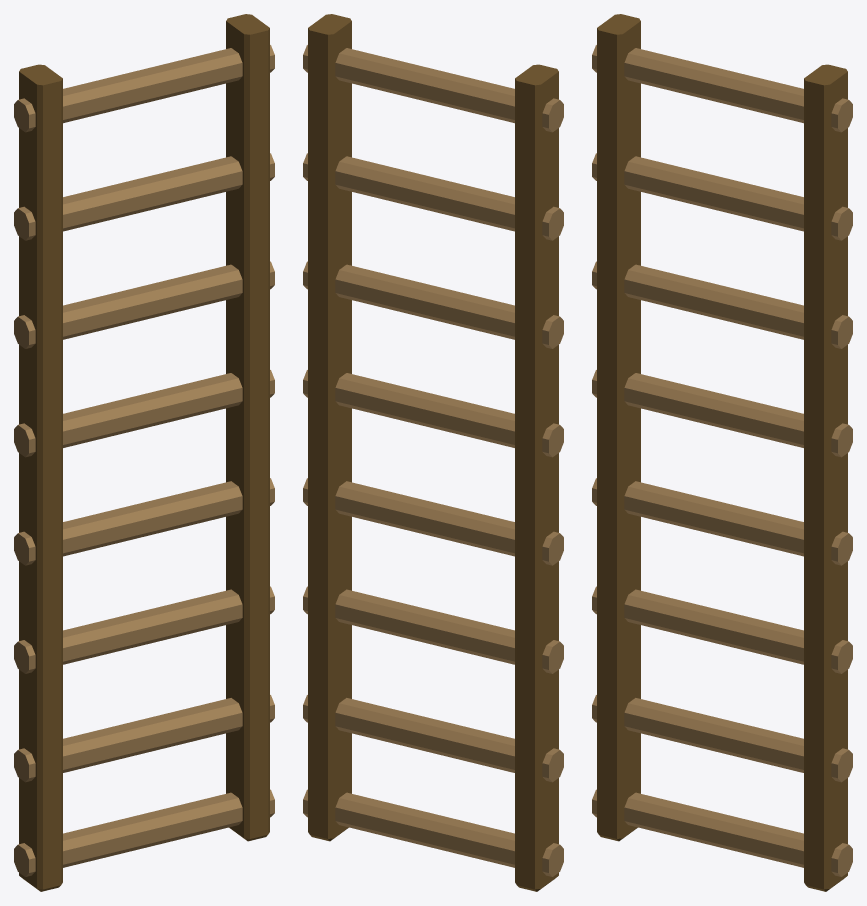
The model's file is Ladder.fbx.
3 renders of one model, left to right at view 1: azimuth 30°, elevation 25°; view 2: azimuth 150°, elevation 25°; view 3: azimuth 330°, elevation 25°, orthographic.
Parts seen in each view (by area): view 1: pCube245; view 2: pCube245; view 3: pCube245.
Boxes of the visible parts, x1=… form: pCube245: x1=14, y1=14, x2=274, y2=891; pCube245: x1=303, y1=14, x2=563, y2=891; pCube245: x1=592, y1=14, x2=852, y2=891.
Bounding box in the file's own units: 116 × 364 × 18.3.
